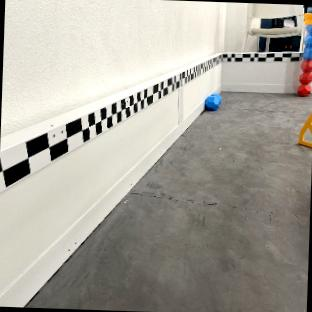V5_BLUE: (204, 93, 221, 111)
V5_RED: (298, 60, 312, 96)
